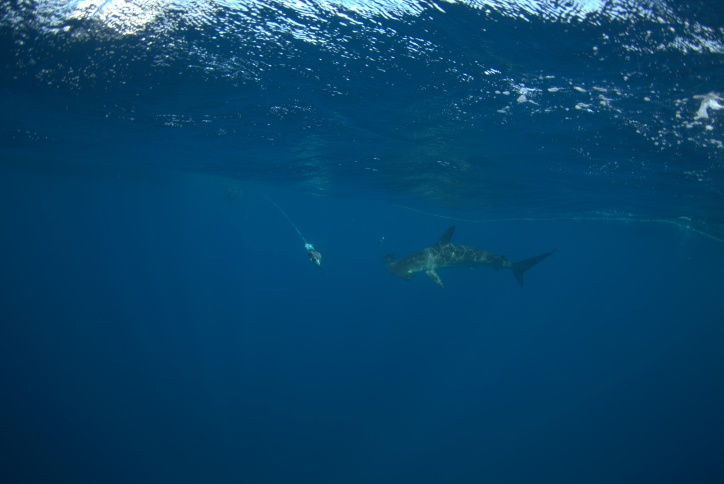Hammer: (372, 206, 596, 336)
